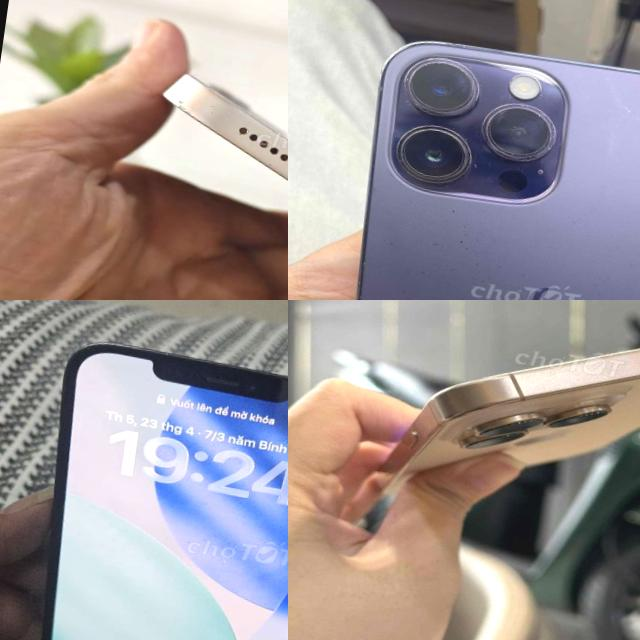gen_12_13: (4, 325, 288, 640), (145, 71, 288, 300)
gen_14: (304, 24, 640, 300)
gen_16: (379, 349, 640, 493)
scratch: (473, 92, 567, 170), (383, 116, 474, 188), (396, 53, 485, 124), (428, 205, 500, 291), (590, 72, 640, 164), (580, 272, 618, 300), (411, 262, 435, 291)
